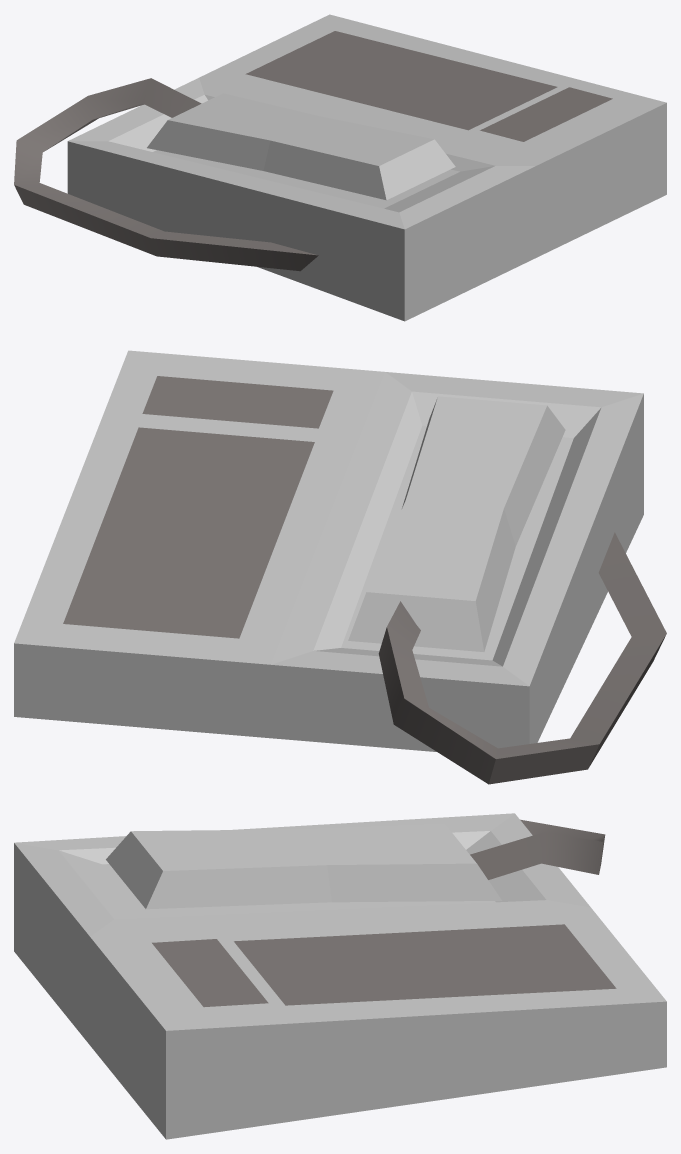
The model's file is SM_Tel_01.fbx.
3 views of the same model, one above another, from view 1: azimuth 30°, elevation 25°; view 2: azimuth 150°, elevation 25°; view 3: azimuth 270°, elevation 25° (orthographic). The views are drawn at different scales.
Visible parts, largest first — view 1: SM_Tel_01; view 2: SM_Tel_01; view 3: SM_Tel_01.
Boxes of the visible parts, <box> form: SM_Tel_01: <box>14,14,666,321</box>; SM_Tel_01: <box>14,350,666,784</box>; SM_Tel_01: <box>14,813,666,1139</box>.
Size of the model in its own units: 34.37 by 7.37 by 32.56.
